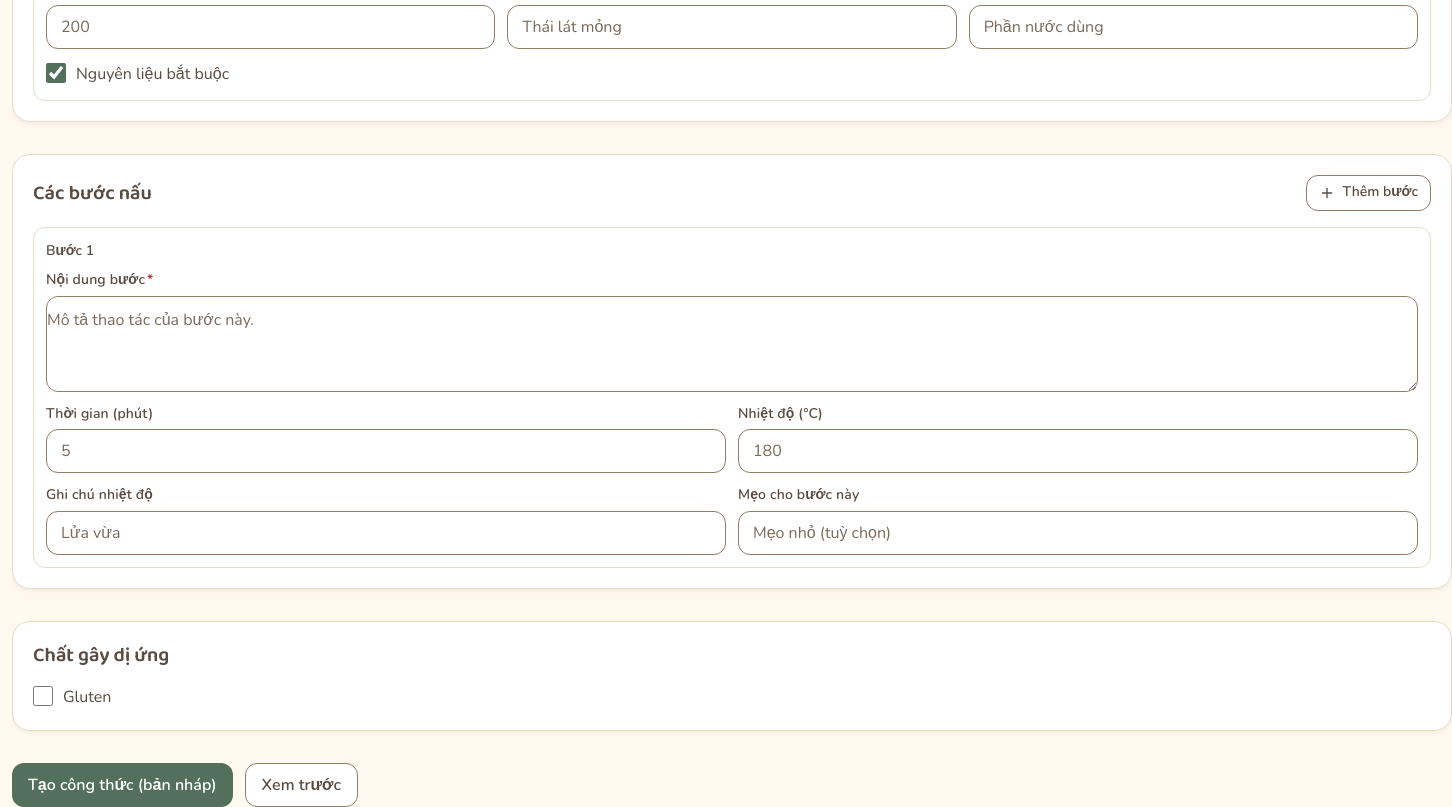
Test: P07 — RecipeForm (create) › hiện/ẩn khối xem trước
The width and height of the screenshot is (1452, 807).
(page scrolled)
Click the button "Xem trước" at point(301, 785), box top-left (245, 763), bottom-right (358, 806)
(page scrolled)
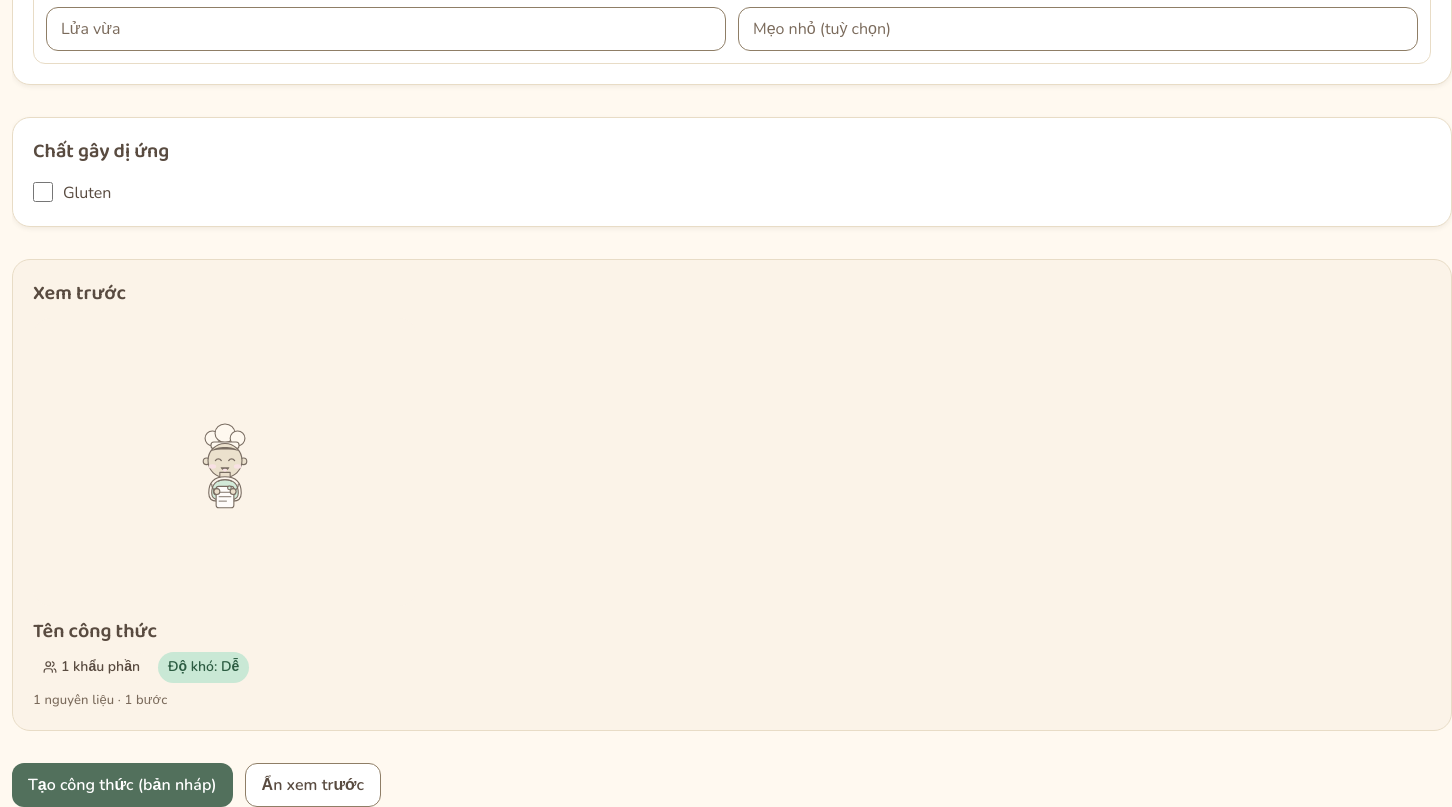
Expected: the heading "Xem trước" is shown, top-left (33, 277), bottom-right (126, 309)
Expected: the text "1 nguyên liệu · 1 bước" is shown, top-left (33, 691), bottom-right (167, 709)
